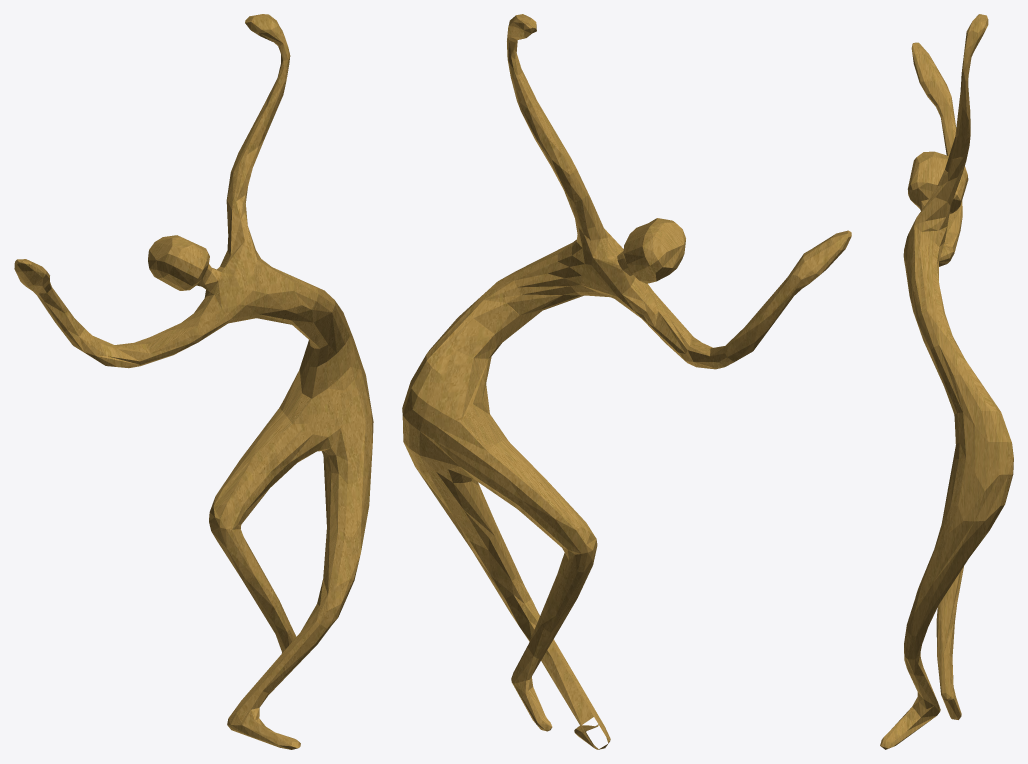
The model's file is Statue.glb.
The picture shows the model from 3 angles, left to right: view 1: azimuth 30°, elevation 25°; view 2: azimuth 150°, elevation 25°; view 3: azimuth 270°, elevation 25°; orthographic projection. The views are drawn at different scales.
Parts seen in each view (by area): view 1: Obj3d66_511939_1_256; view 2: Obj3d66_511939_1_256; view 3: Obj3d66_511939_1_256.
Part boxes in pixels (<box>): Obj3d66_511939_1_256: <box>14,14,373,749</box>; Obj3d66_511939_1_256: <box>402,14,851,749</box>; Obj3d66_511939_1_256: <box>880,14,1013,749</box>.
Bounding box in the file's own units: 394 × 688 × 113.
1 material, 1 textured.
